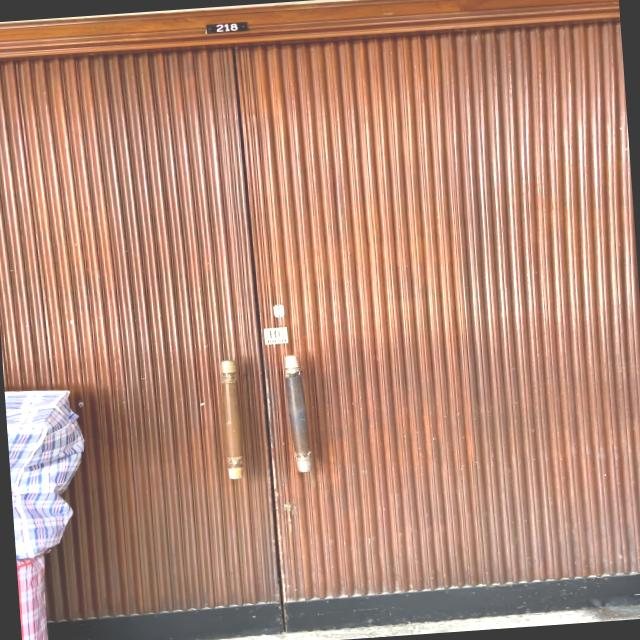room218: (202, 19, 252, 35)
